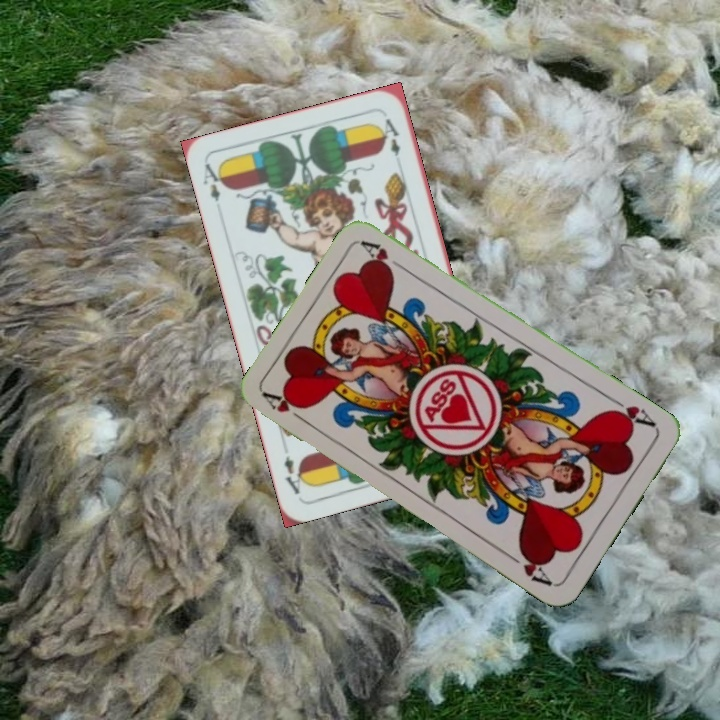EA: (199, 159, 228, 204)
HA: (260, 388, 313, 428), (605, 392, 658, 430)
